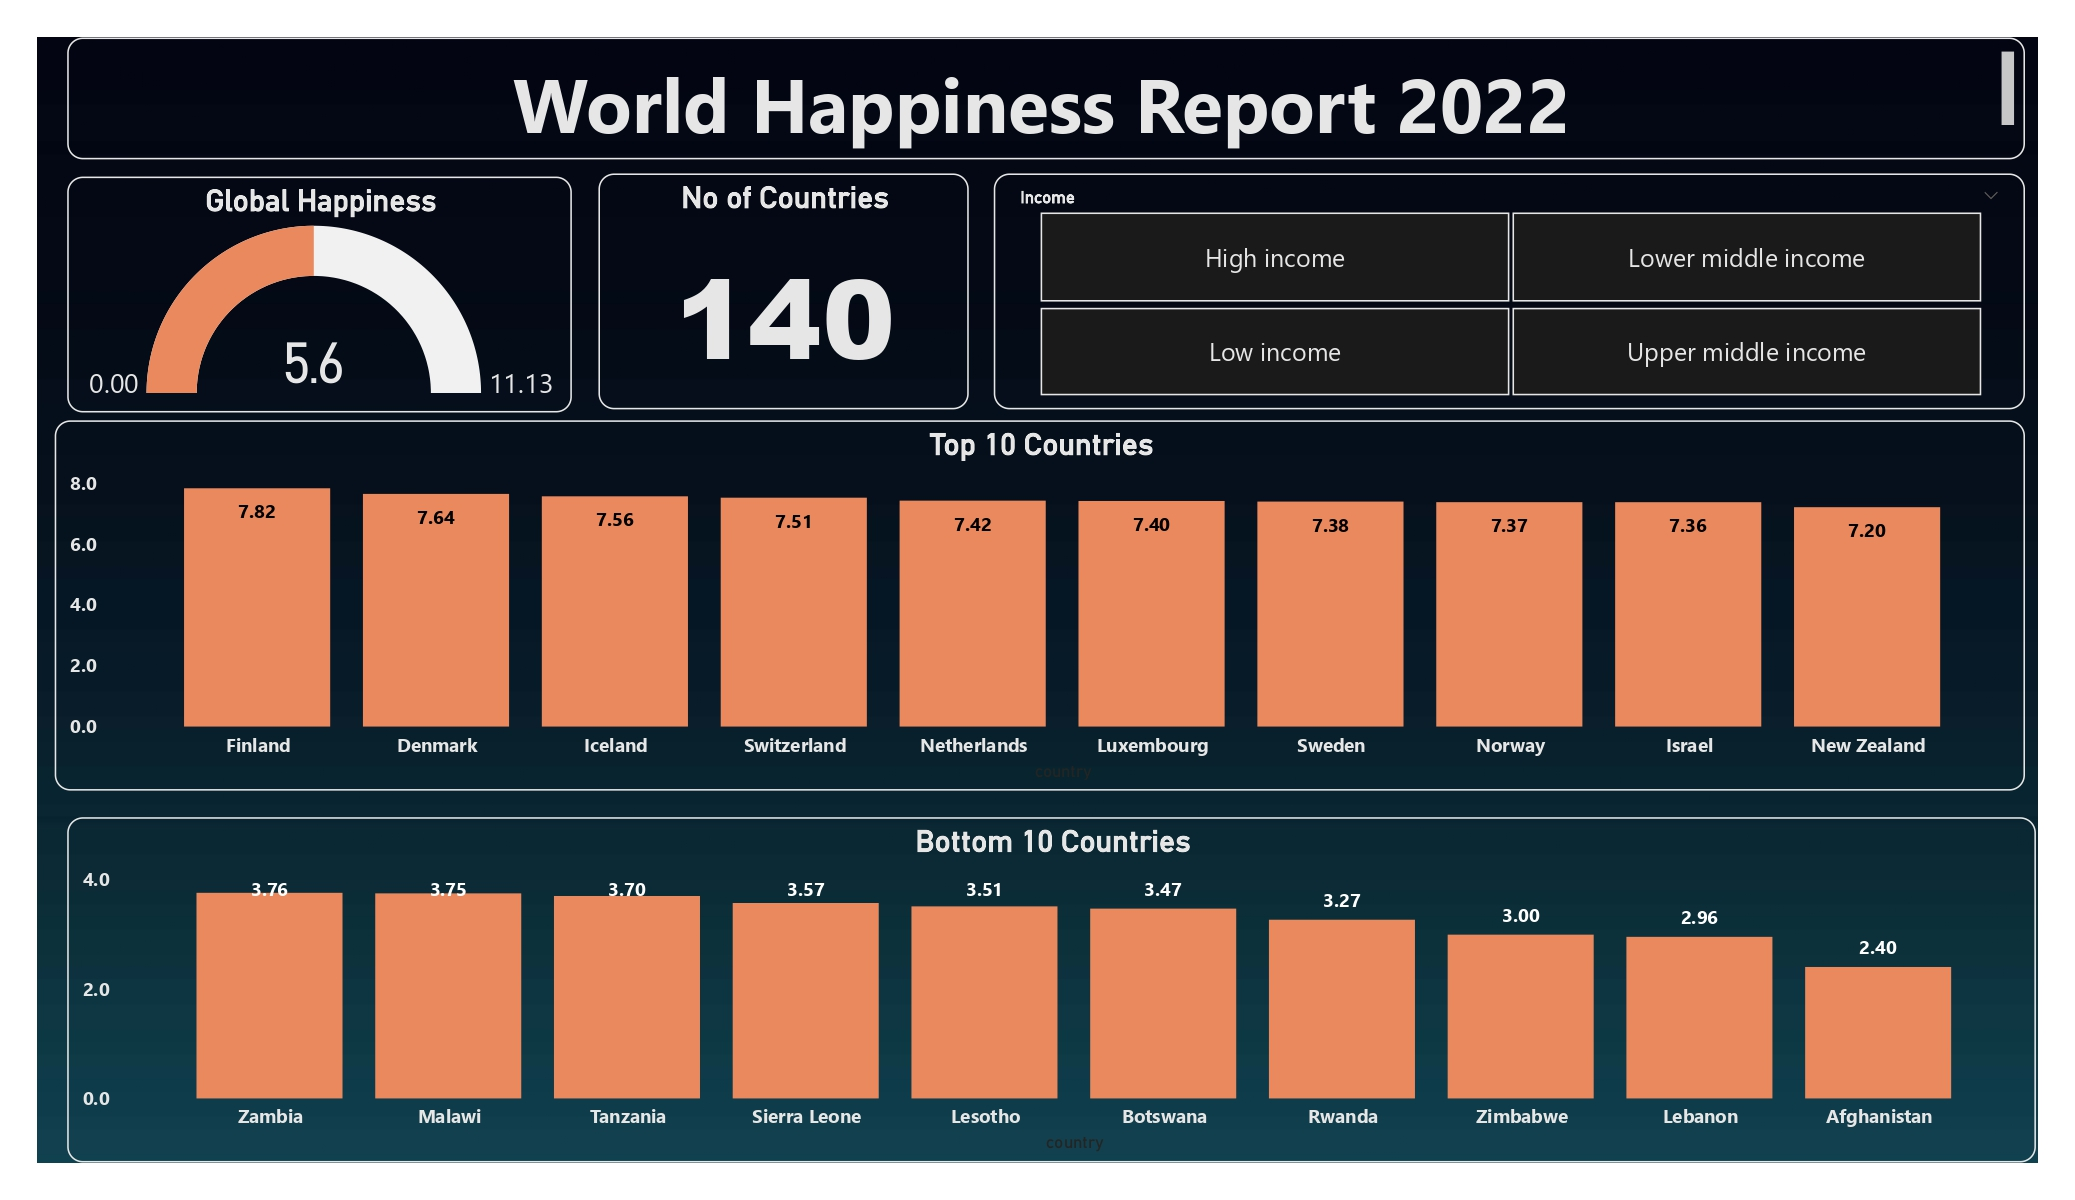

The dashboard page shown, as its layout file describes it:
{"tool":"powerbi","page":{"name":"Dashboard","canvas":[1280,720],"ordinal":0},"visuals":[{"type":"gauge","title":"Global Happiness","fields":{"Y":["Avg(hapiness_report_2022.score)"]},"box":[19.1,89,322.6,151],"z":0},{"type":"textbox","box":[19.1,0,1252.5,77.9],"z":1000},{"type":"card","title":"No of Countries","fields":{"Values":["Count(hapiness_report_2022.country)"]},"box":[359.2,87.4,236.8,151],"z":2000},{"type":"columnChart","title":"Top 10 Countries","fields":{"Category":["hapiness_report_2022.country"],"Y":["Sum(hapiness_report_2022.score)"]},"box":[11.1,244.8,1260.4,236.8],"z":3000},{"type":"columnChart","title":"Bottom 10 Countries","fields":{"Category":["hapiness_report_2022.country"],"Y":["Sum(hapiness_report_2022.score)"]},"box":[19.1,499.1,1260.4,220.9],"z":4000},{"type":"slicer","fields":{"Values":["hapiness_report_2022.income"]},"box":[611.9,87.4,659.6,151],"z":5000}]}

Visuals, with their boxes on the page's 1280x720 design canvas (x1, y1, x2, y2). These are canvas units, not pixel positions in the 2075x1200 screenshot, which may show the page scaled, cropped or inside an application window:
"Global Happiness" gauge: 19 89 342 240
textbox: 19 0 1272 78
"No of Countries" card: 359 87 596 238
"Top 10 Countries" columnChart: 11 245 1272 482
"Bottom 10 Countries" columnChart: 19 499 1280 720
slicer - hapiness_report_2022.income: 612 87 1272 238
